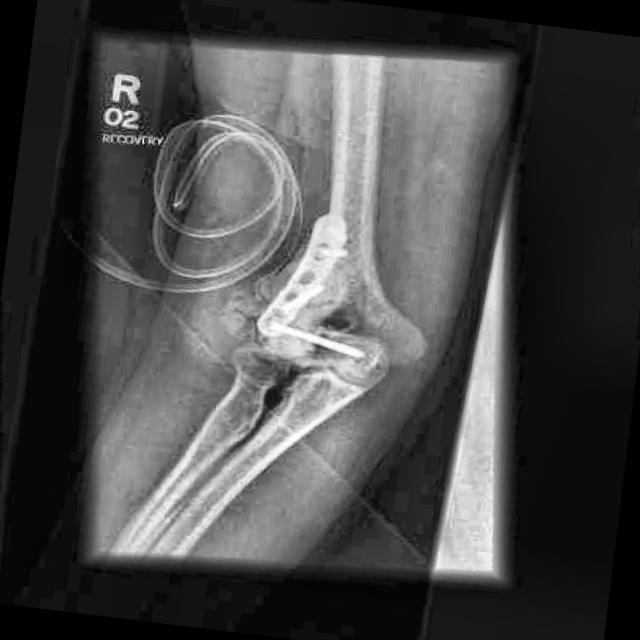elbow positive: (206, 247, 332, 365)
